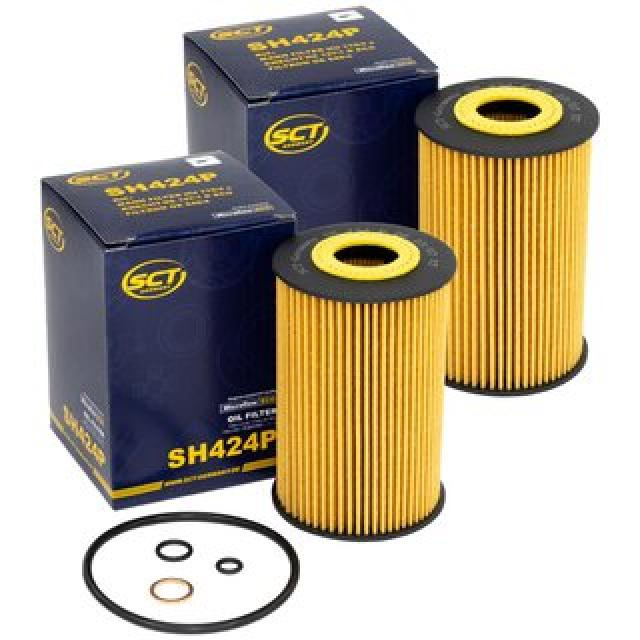oil_filter: (413, 82, 593, 401), (272, 225, 445, 544)
